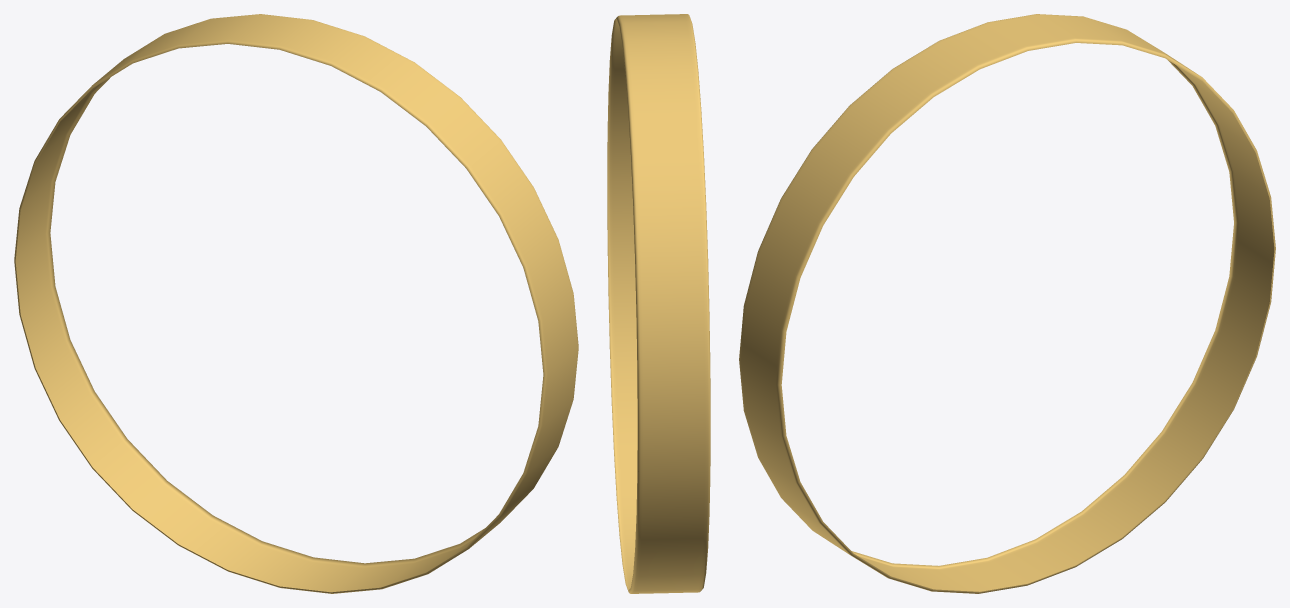
3 renders of one model, left to right at view 1: azimuth 30°, elevation 25°; view 2: azimuth 150°, elevation 25°; view 3: azimuth 270°, elevation 25°, orthographic. The views are drawn at different scales.
Parts seen in each view (by area): view 1: Circle; view 2: Circle; view 3: Circle.
Boxes of the visible parts, left/top/right/bottom form: Circle: left=14, top=14, right=578, bottom=593; Circle: left=607, top=14, right=710, bottom=593; Circle: left=739, top=14, right=1275, bottom=593.
Size of the model in its own units: 12.95 by 20 by 18.07.
